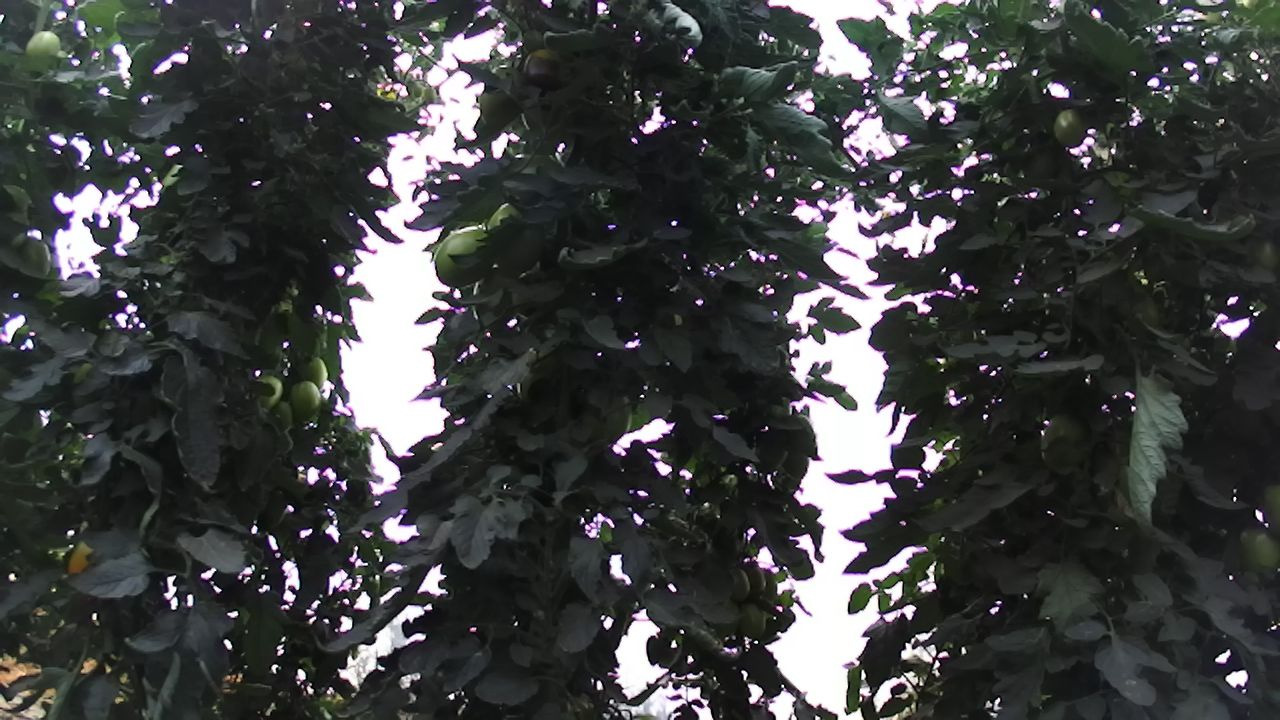tomato: (430, 220, 499, 291), (1050, 106, 1089, 148), (24, 27, 65, 63), (289, 378, 321, 422)
